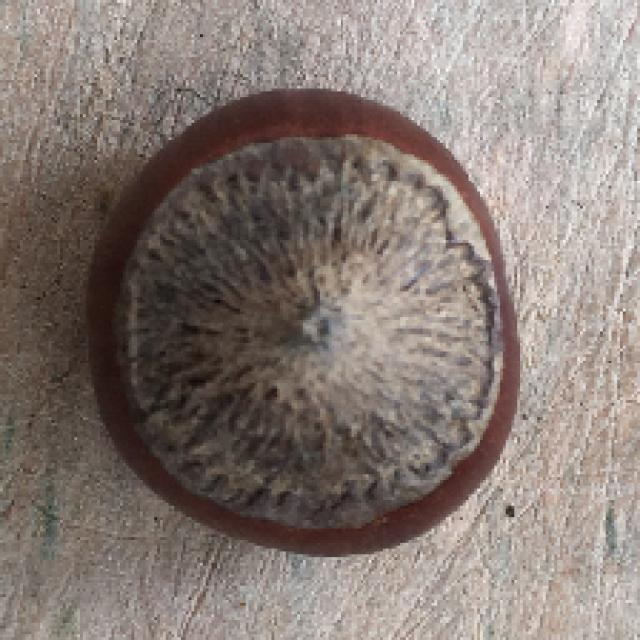DamagedHazelnut: (79, 84, 524, 556)
